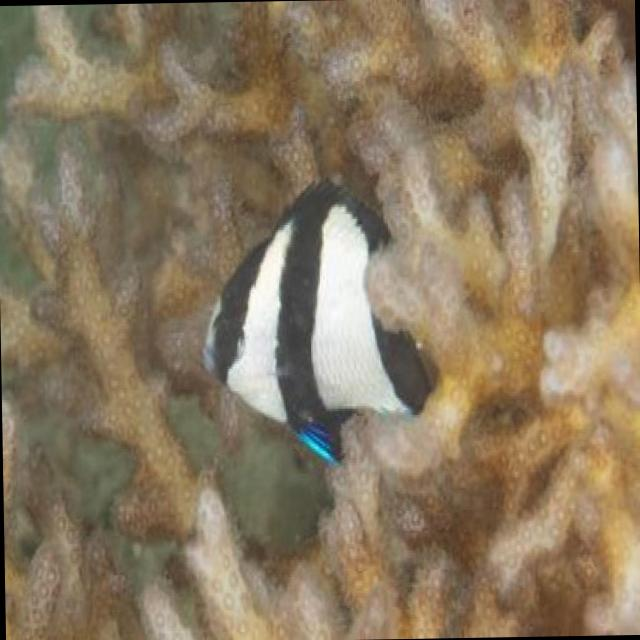Three_striped DasmselFish: (195, 185, 434, 468)
